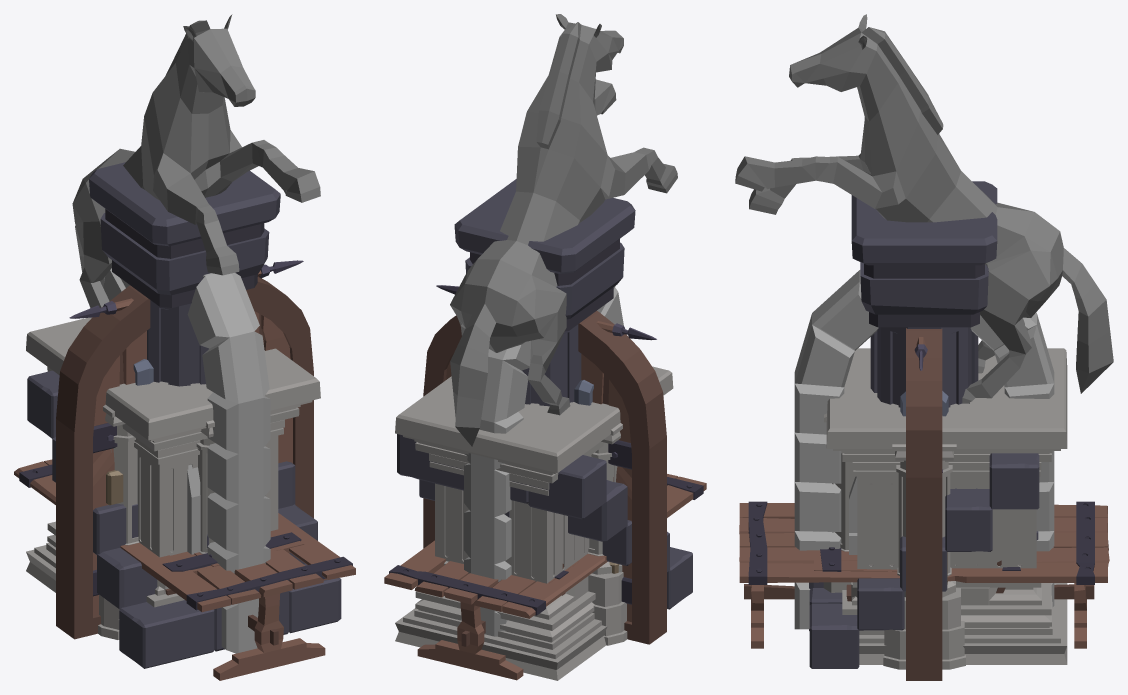
File: lobby.glb
3 renders of one model, left to right at view 1: azimuth 30°, elevation 25°; view 2: azimuth 150°, elevation 25°; view 3: azimuth 270°, elevation 25°, orthographic. The views are drawn at different scales.
Parts seen in each view (by area): view 1: lobby_p1_Statue_Horse, lobby_p1_Arch_Door, lobby_p2_Entrance2, lobby_p1_Column2, lobby_p1_Stairs_Modular, lobby_p1_Pedestal2, lobby_p1_Table_Big, lobby_p1_Pedestal, lobby_p1_Table_Small, lobby_p2_Window, lobby_p1_Banner, lobby_p1_Decorative_Wall; view 2: lobby_p1_Statue_Horse, lobby_p1_Arch_Door, lobby_p1_Column2, lobby_p1_Table_Big, lobby_p2_Entrance2, lobby_p1_Stairs_Modular, lobby_p1_Pedestal2, lobby_p1_Pedestal, lobby_p1_Banner; view 3: lobby_p1_Statue_Horse, lobby_p1_Pedestal2, lobby_p1_Column2, lobby_p2_Entrance2, lobby_p1_Table_Big, lobby_p1_Arch_Door, lobby_p1_Stairs_Modular, lobby_p1_Pedestal, lobby_p1_Table_Small, lobby_p2_Window.
Part boxes in pixels (left/top/right/bottom): lobby_p1_Statue_Horse: left=26, top=14, right=320, bottom=619; lobby_p1_Arch_Door: left=56, top=276, right=313, bottom=639; lobby_p2_Entrance2: left=103, top=268, right=270, bottom=653; lobby_p1_Column2: left=89, top=162, right=280, bottom=386; lobby_p1_Stairs_Modular: left=27, top=370, right=341, bottom=668; lobby_p1_Pedestal2: left=48, top=344, right=320, bottom=620; lobby_p1_Table_Big: left=14, top=459, right=355, bottom=680; lobby_p1_Pedestal: left=98, top=404, right=214, bottom=639; lobby_p1_Table_Small: left=162, top=526, right=304, bottom=574; lobby_p2_Window: left=187, top=464, right=200, bottom=554; lobby_p1_Banner: left=69, top=260, right=303, bottom=318; lobby_p1_Decorative_Wall: left=106, top=470, right=123, bottom=505; lobby_p1_Statue_Horse: left=395, top=14, right=677, bottom=680; lobby_p1_Arch_Door: left=423, top=311, right=666, bottom=644; lobby_p1_Column2: left=454, top=179, right=635, bottom=406; lobby_p1_Table_Big: left=384, top=474, right=706, bottom=680; lobby_p2_Entrance2: left=464, top=286, right=623, bottom=636; lobby_p1_Stairs_Modular: left=397, top=434, right=692, bottom=609; lobby_p1_Pedestal2: left=421, top=366, right=673, bottom=656; lobby_p1_Pedestal: left=565, top=423, right=627, bottom=645; lobby_p1_Banner: left=436, top=285, right=656, bottom=340; lobby_p1_Statue_Horse: left=735, top=14, right=1113, bottom=664; lobby_p1_Pedestal2: left=826, top=348, right=1022, bottom=664; lobby_p1_Column2: left=851, top=181, right=997, bottom=407; lobby_p2_Entrance2: left=794, top=270, right=1054, bottom=629; lobby_p1_Table_Big: left=739, top=501, right=1109, bottom=648; lobby_p1_Arch_Door: left=906, top=328, right=942, bottom=680; lobby_p1_Stairs_Modular: left=809, top=453, right=1039, bottom=668; lobby_p1_Pedestal: left=823, top=413, right=997, bottom=669; lobby_p1_Table_Small: left=814, top=547, right=1033, bottom=571; lobby_p2_Window: left=849, top=476, right=857, bottom=554.
Bounding box in the file's own units: 2.42 × 5.85 × 3.38.
